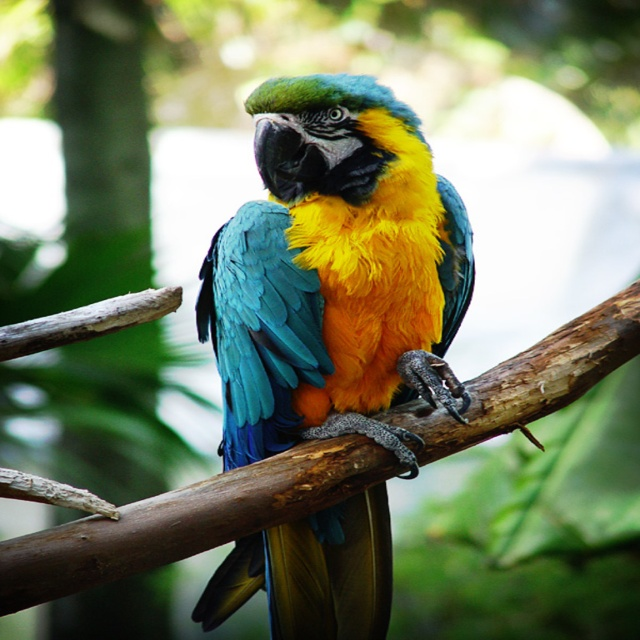Parrot: (183, 72, 480, 637)
